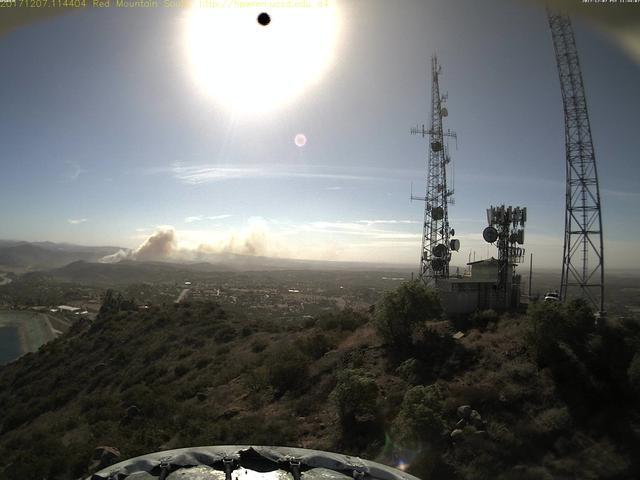smoke: (91, 222, 277, 267)
